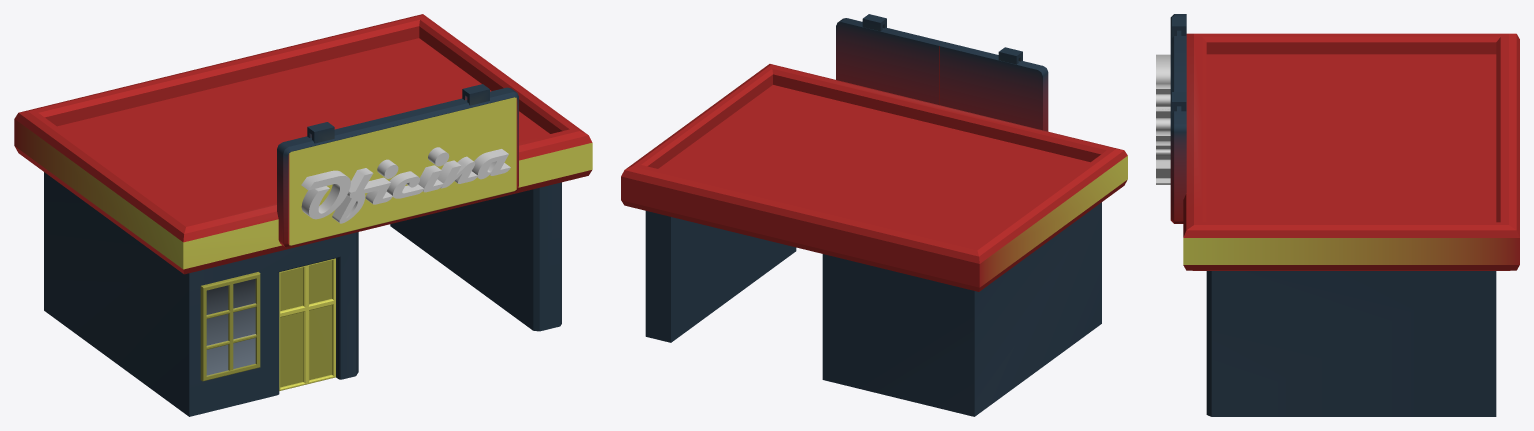
File: Oficina_P.fbx
3 views of the same model, side by side, from view 1: azimuth 30°, elevation 25°; view 2: azimuth 150°, elevation 25°; view 3: azimuth 270°, elevation 25° (orthographic). The views are drawn at different scales.
Visible parts, largest first — view 1: Oficina.P; view 2: Oficina.P; view 3: Oficina.P.
Boxes of the visible parts, box(x1,y1,x2,y2) form: Oficina.P: box(14, 14, 592, 416); Oficina.P: box(621, 14, 1127, 416); Oficina.P: box(1156, 14, 1519, 416).
Size of the model in its own units: 1418 by 899 by 1096.
